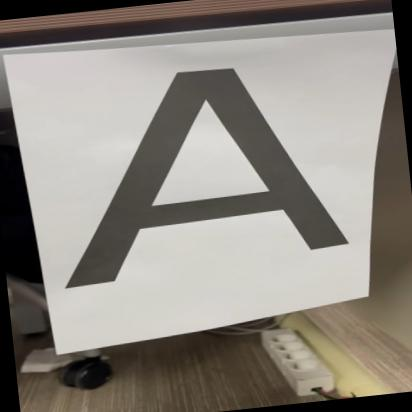seat: (25, 42, 380, 309)
